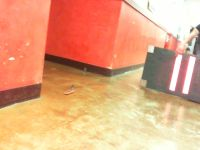switch: (181, 56, 195, 95), (168, 54, 182, 91)
